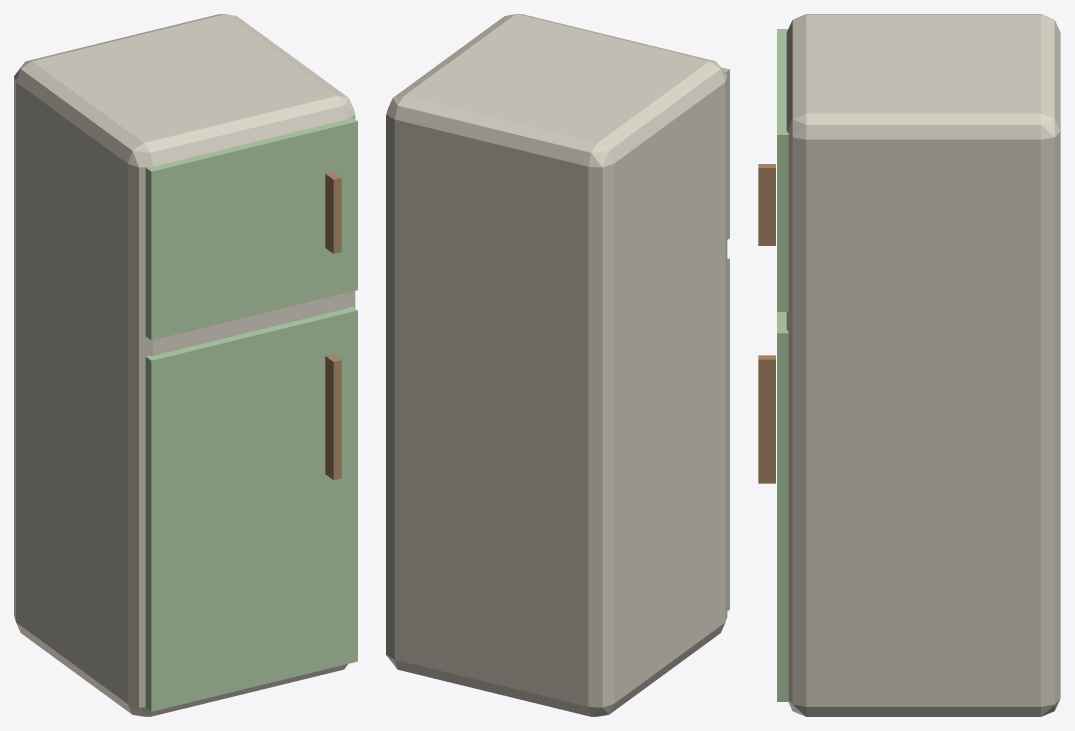
File: cozy-home-interiors-fridge-c9568818.glb
The picture shows the model from 3 angles, left to right: view 1: azimuth 30°, elevation 25°; view 2: azimuth 150°, elevation 25°; view 3: azimuth 270°, elevation 25°; orthographic projection. The views are drawn at different scales.
Visible parts, largest first — view 1: fridge; view 2: fridge; view 3: fridge.
Boxes of the visible parts, bbox=[...] form: fridge: bbox=[14, 14, 357, 716]; fridge: bbox=[386, 14, 729, 716]; fridge: bbox=[758, 14, 1060, 716].
Size of the model in its own units: 0.7 by 1.7 by 0.7725.
